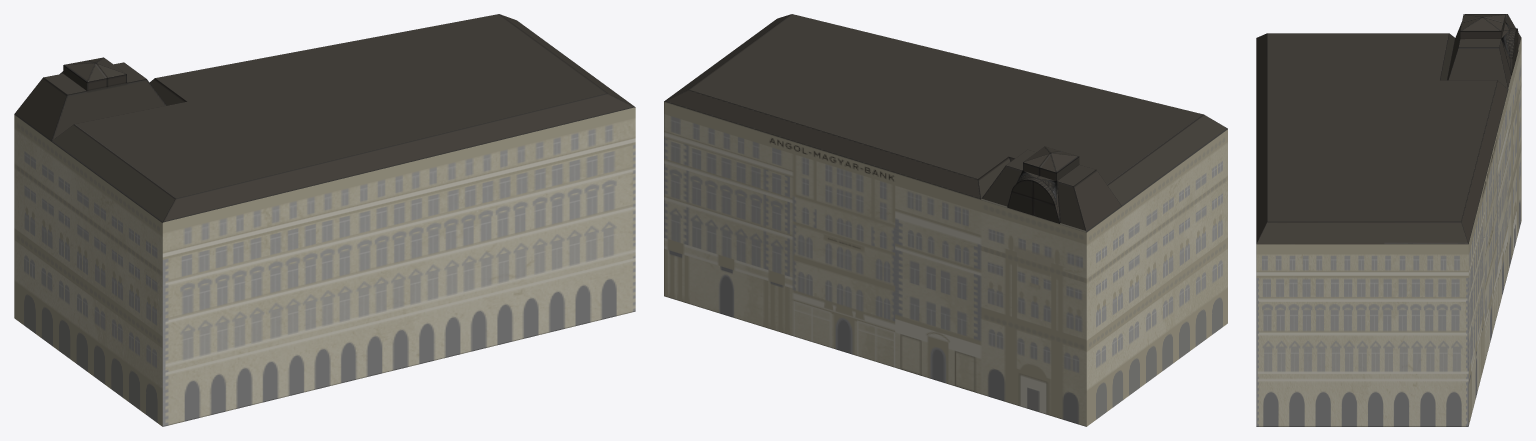
Rendered from podmaniczky.glb.
3 views of the same model, side by side, from view 1: azimuth 30°, elevation 25°; view 2: azimuth 150°, elevation 25°; view 3: azimuth 270°, elevation 25° (orthographic). The views are drawn at different scales.
Visible parts, largest first — view 1: Plane; view 2: Plane; view 3: Plane.
Part boxes in pixels (<box>): Plane: <box>14,14,635,426</box>; Plane: <box>664,14,1227,426</box>; Plane: <box>1256,14,1521,426</box>.
Bounding box in the file's own units: 4.6 × 2.39 × 2.5.
1 material, 1 textured.
